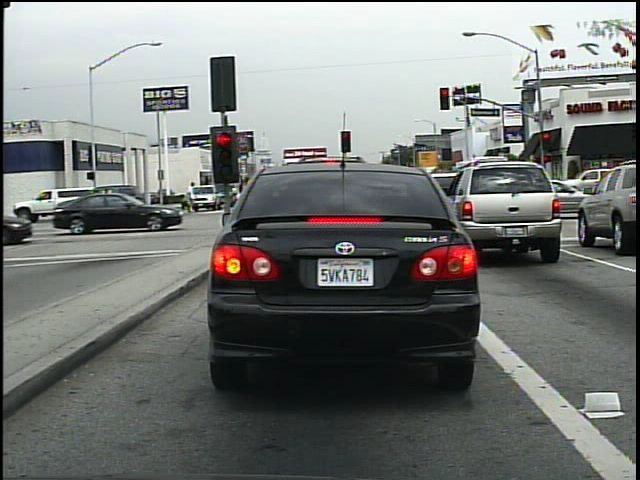person: (181, 179, 198, 215)
